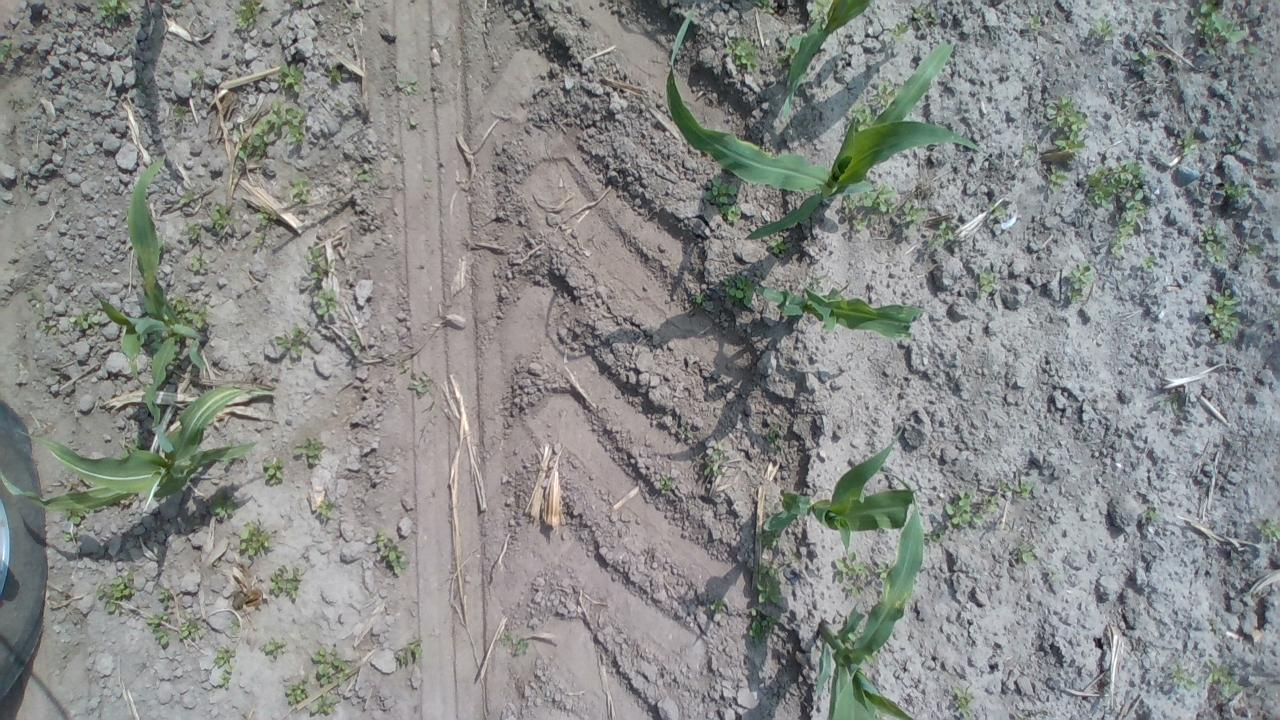Maize: (665, 0, 993, 240), (0, 386, 273, 515), (95, 154, 209, 428), (813, 470, 925, 720), (766, 428, 914, 553), (755, 278, 925, 344), (779, 0, 872, 120)
Weeds: (233, 99, 305, 159), (1190, 1, 1247, 56), (843, 182, 898, 232), (1108, 188, 1147, 258), (1086, 163, 1144, 210), (1047, 95, 1089, 154), (1203, 288, 1242, 345), (702, 174, 742, 225), (96, 567, 137, 615), (312, 644, 352, 686), (724, 30, 762, 74), (834, 552, 870, 596), (374, 528, 406, 576), (944, 490, 986, 526), (754, 560, 785, 608), (1206, 657, 1242, 698), (1196, 222, 1230, 264), (168, 296, 209, 330), (268, 566, 304, 602), (720, 274, 760, 306), (1066, 262, 1096, 302), (238, 521, 272, 556), (746, 607, 777, 643), (275, 324, 307, 358), (774, 32, 804, 66), (94, 0, 130, 28), (304, 248, 334, 281), (278, 62, 306, 96), (901, 198, 928, 233), (306, 688, 342, 714), (310, 287, 342, 316), (500, 626, 529, 656), (254, 209, 276, 248), (209, 204, 240, 231), (996, 479, 1040, 498), (703, 445, 729, 477), (928, 220, 957, 248), (951, 685, 974, 720), (848, 103, 875, 132), (147, 612, 170, 646), (873, 80, 903, 106), (286, 172, 311, 203), (1049, 162, 1073, 194), (296, 437, 322, 466), (262, 454, 286, 485), (232, 0, 258, 28), (284, 678, 308, 708), (1170, 662, 1196, 689), (975, 271, 996, 304), (70, 309, 100, 331), (1256, 517, 1280, 544), (210, 497, 238, 520), (766, 424, 786, 455), (912, 0, 936, 24), (407, 373, 432, 396), (397, 642, 422, 665), (178, 620, 206, 640), (1222, 182, 1250, 202), (808, 0, 832, 23), (767, 236, 792, 258), (64, 508, 96, 525), (215, 646, 235, 673), (1131, 48, 1160, 66), (757, 528, 780, 548), (262, 638, 286, 657), (1092, 18, 1114, 38), (399, 74, 418, 96), (1181, 130, 1199, 152), (8, 94, 32, 110), (752, 0, 776, 16), (983, 494, 1002, 514), (0, 38, 15, 63), (778, 684, 801, 700), (893, 18, 908, 42), (1018, 543, 1036, 563), (185, 221, 202, 242), (922, 530, 946, 544), (659, 472, 674, 494), (1024, 15, 1042, 33), (190, 255, 208, 273), (874, 560, 892, 578), (32, 318, 49, 335), (691, 292, 707, 310), (1142, 506, 1160, 522), (191, 67, 206, 86), (317, 499, 333, 516), (1244, 42, 1261, 58), (130, 432, 146, 449), (327, 64, 342, 82), (349, 332, 362, 352), (1160, 393, 1180, 406), (990, 202, 1006, 218), (708, 598, 724, 613), (224, 619, 242, 632), (177, 192, 200, 202), (158, 586, 172, 602), (1022, 142, 1036, 157), (866, 649, 881, 663), (356, 174, 376, 184), (1141, 255, 1156, 268), (220, 674, 232, 690), (1247, 244, 1261, 257), (680, 426, 694, 439), (174, 107, 186, 121), (170, 351, 181, 364), (1226, 144, 1240, 152), (349, 9, 360, 18), (1048, 568, 1056, 580), (63, 532, 72, 542), (158, 239, 166, 250)
